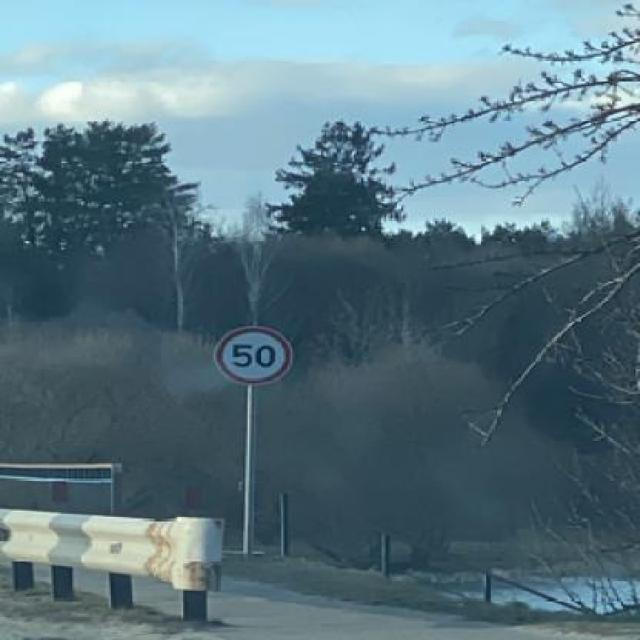Speed limit 50: (211, 323, 297, 390)
